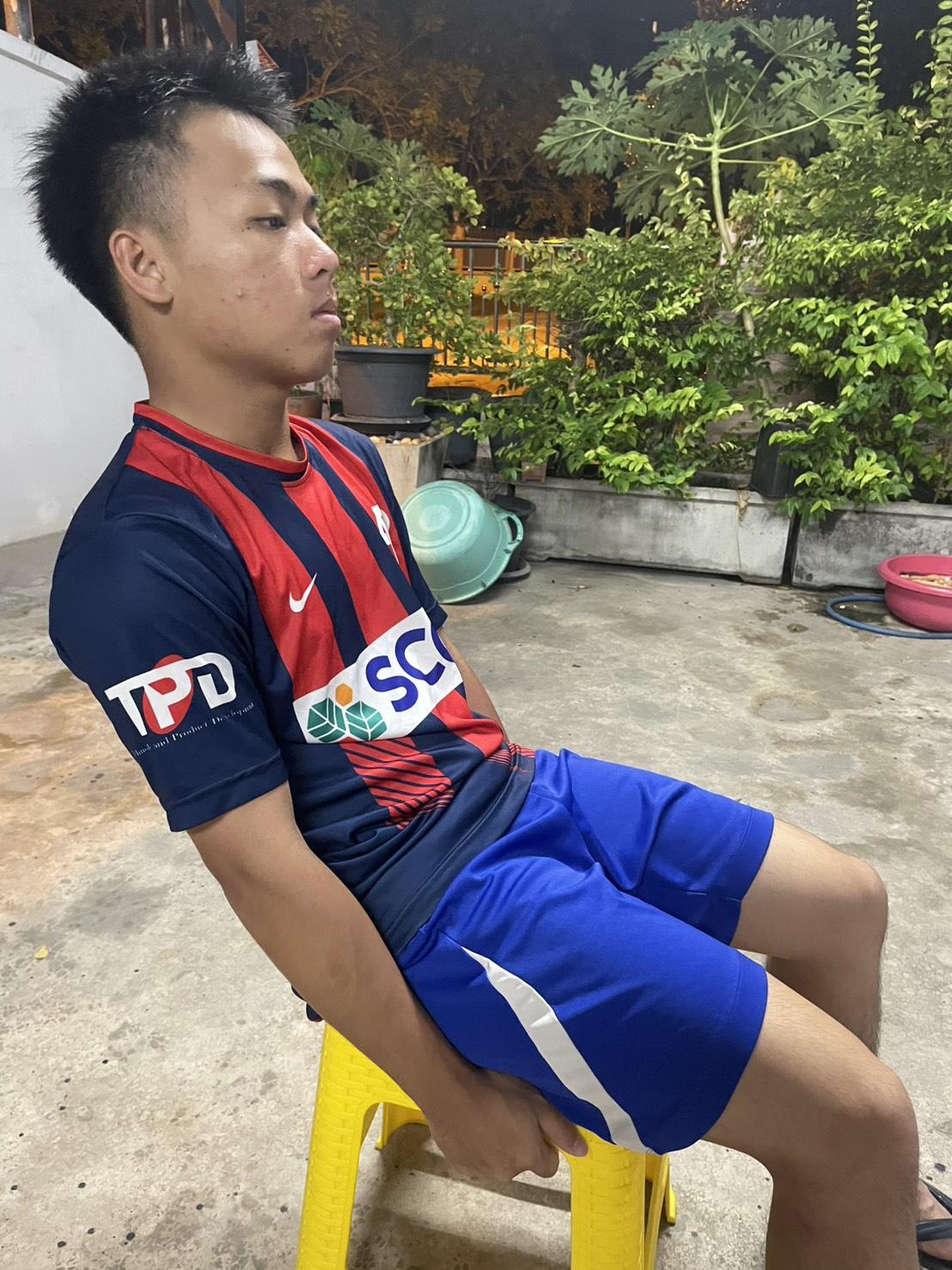BadPosture: (30, 52, 531, 1128)
